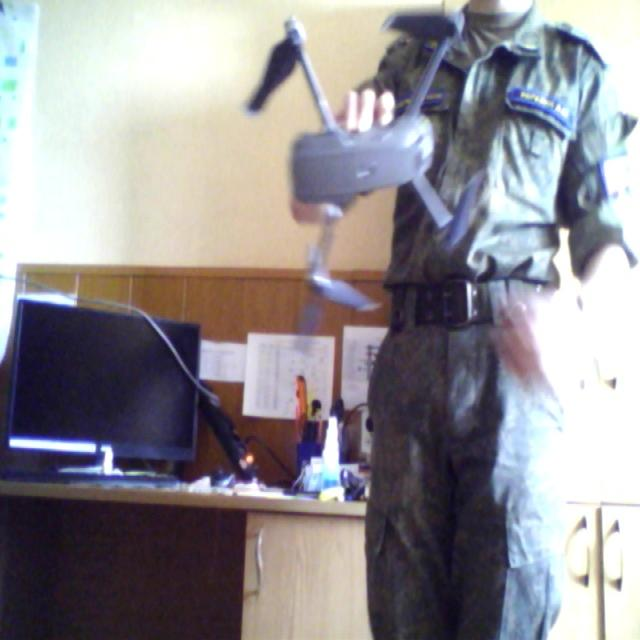drone: (254, 0, 496, 296)
